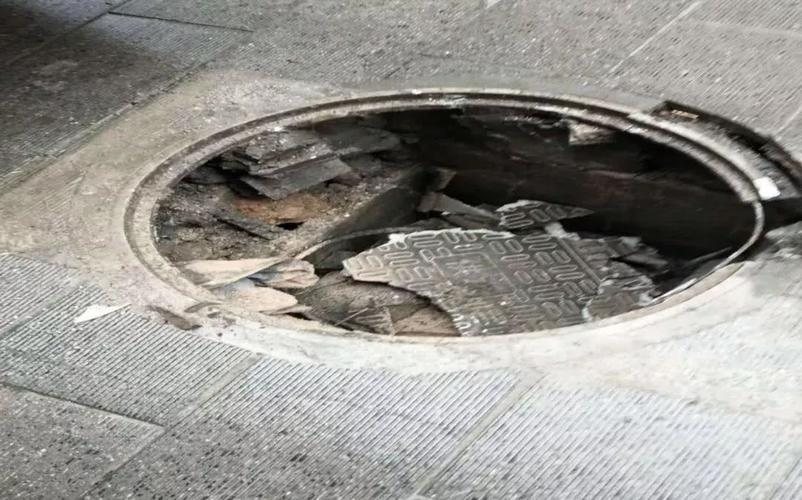broke: (117, 79, 789, 368)
